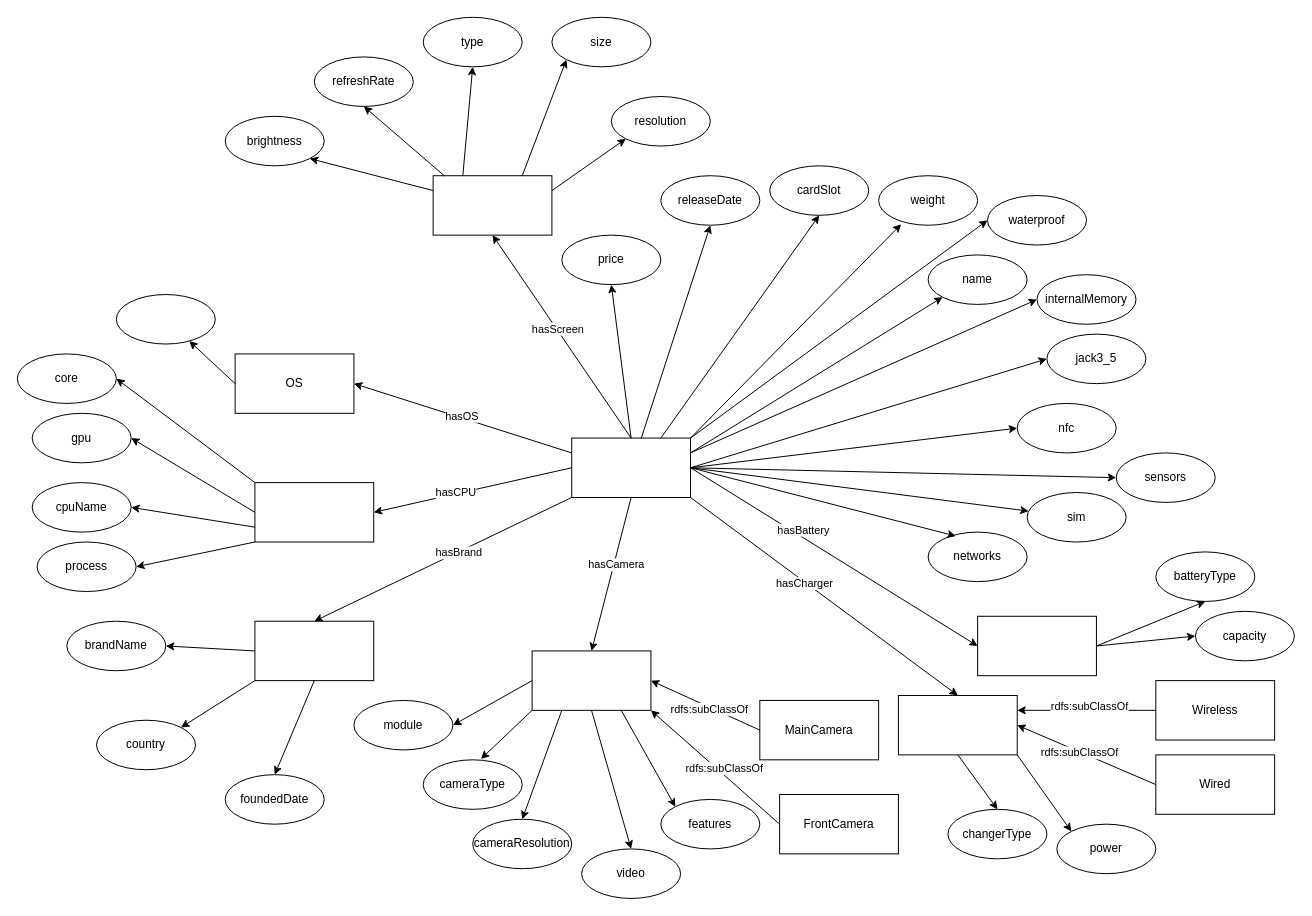
This 1312x916 diagram has some shape labels left out. Here are the shapes that lost their labels. From the top down, the centre of each, then its label:
the point at 492,205: Screen
the point at 165,319: osName
the point at 631,467: SmartPhone
the point at 314,512: CPU
the point at 314,650: Brand
the point at 1036,645: Battery
the point at 591,680: Camera
the point at 957,724: Charger
